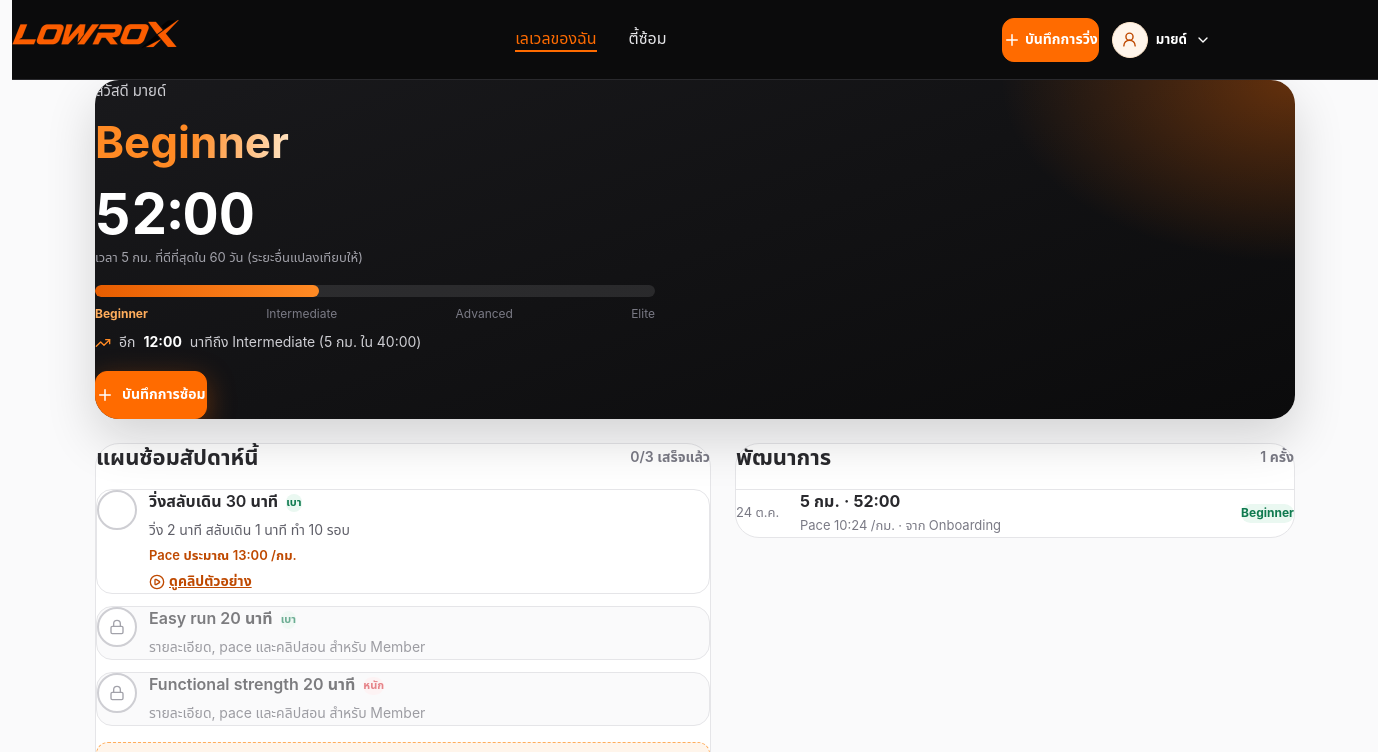
My level › free members can tick the first plan session; the rest are locked
Step 1. Click the button named "ทำเครื่องหมายว่าเสร็จ" → (117, 510), box [97, 490, 137, 530]
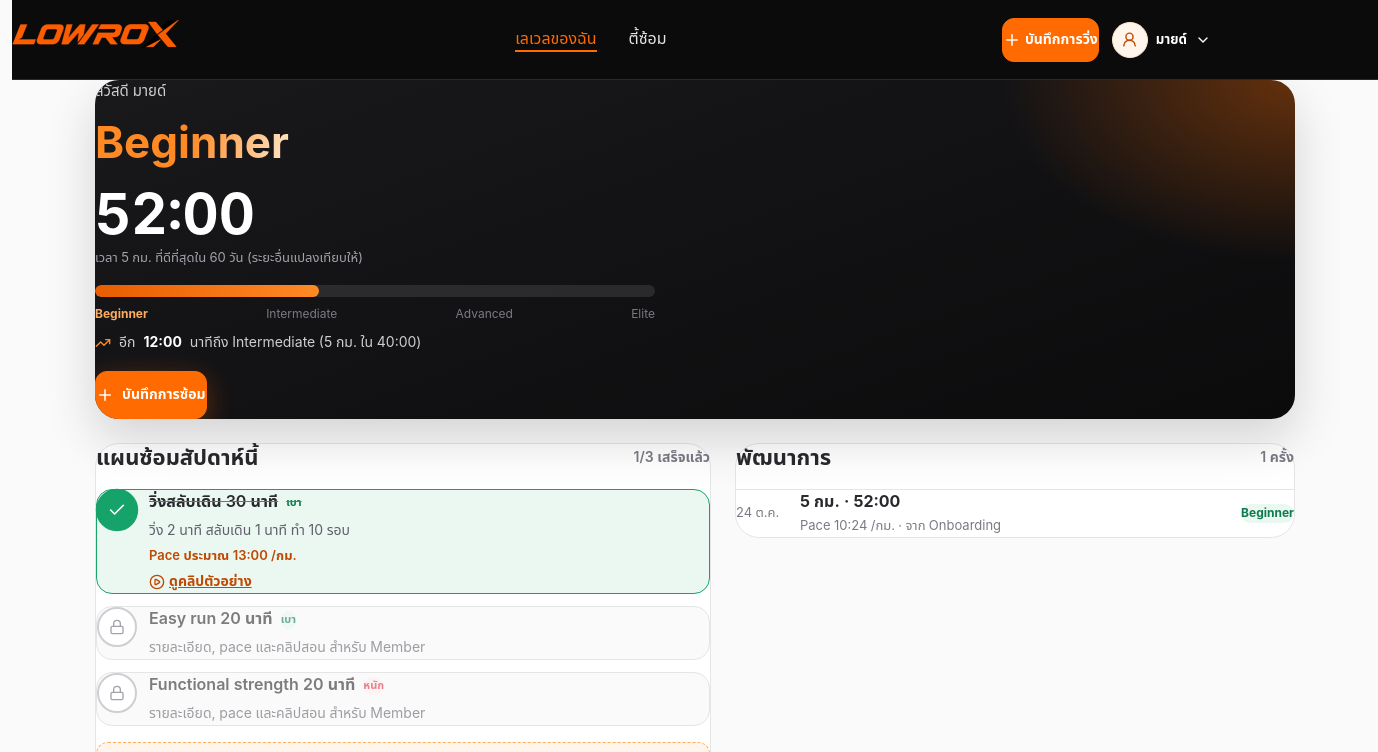
Expected: the button named "ทำเครื่องหมายว่าเสร็จ: Easy run 20 นาที" is disabled, [97, 607, 137, 647]
Now the text "1/3 เสร็จแล้ว" is shown, box [634, 447, 710, 470]
